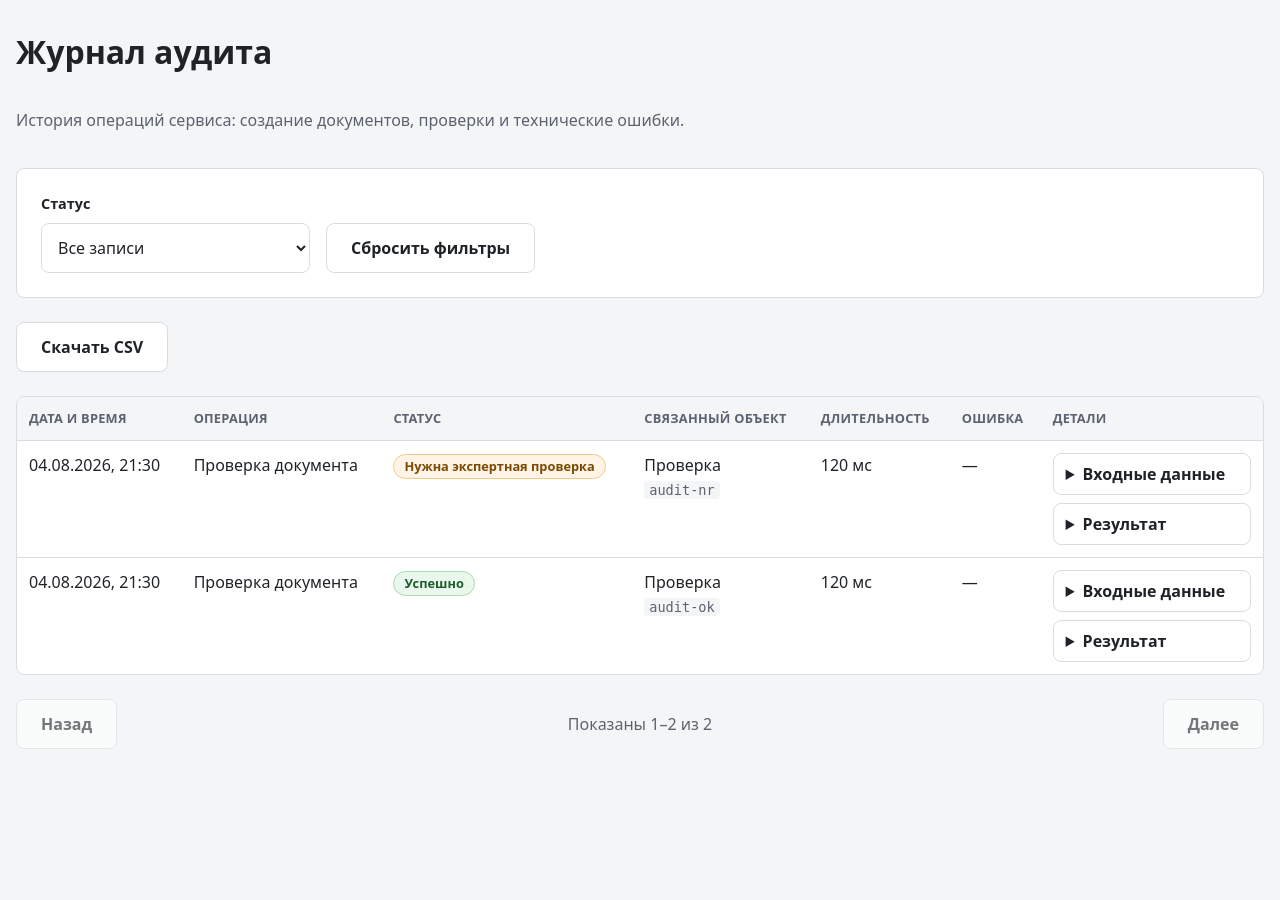
Test case: AuditJournalPage › status filter формирует точный query (status=needs_review)
This screenshot has width=1280, height=900.
expect the table is shown: met, box [17,397,1263,674]
Select "Нужна экспертная проверка" in the dropdown labelled "Статус": (176,248) [41,223,310,273]
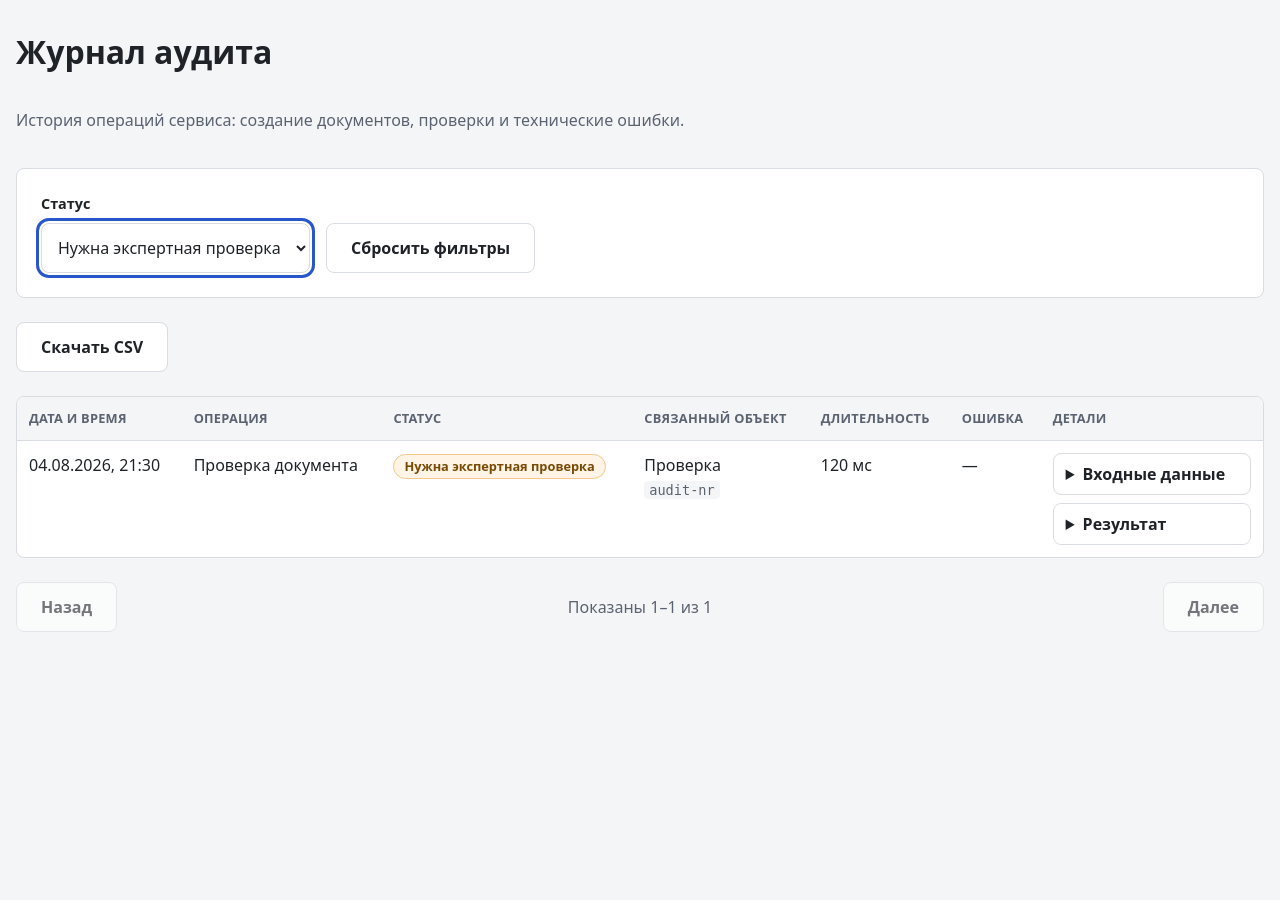
expect the text "audit-nr" is shown: met, box [644,481,720,499]
expect the text "audit-ok" is gone: met
